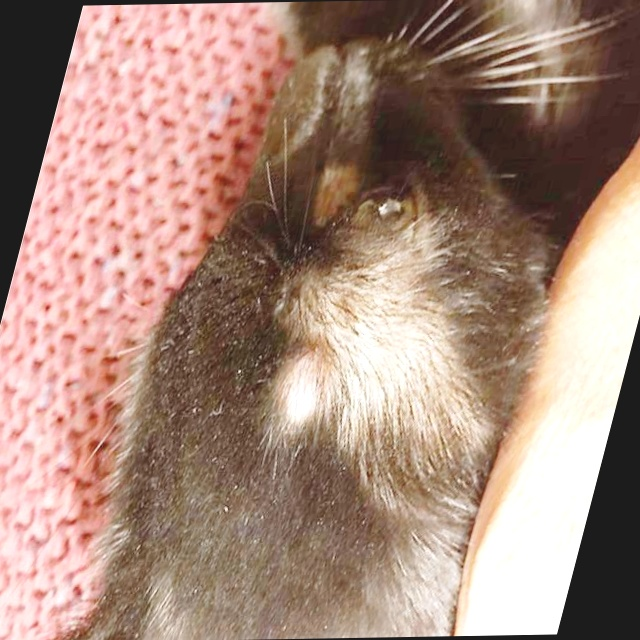lump_and_bump: (274, 370, 332, 416)
